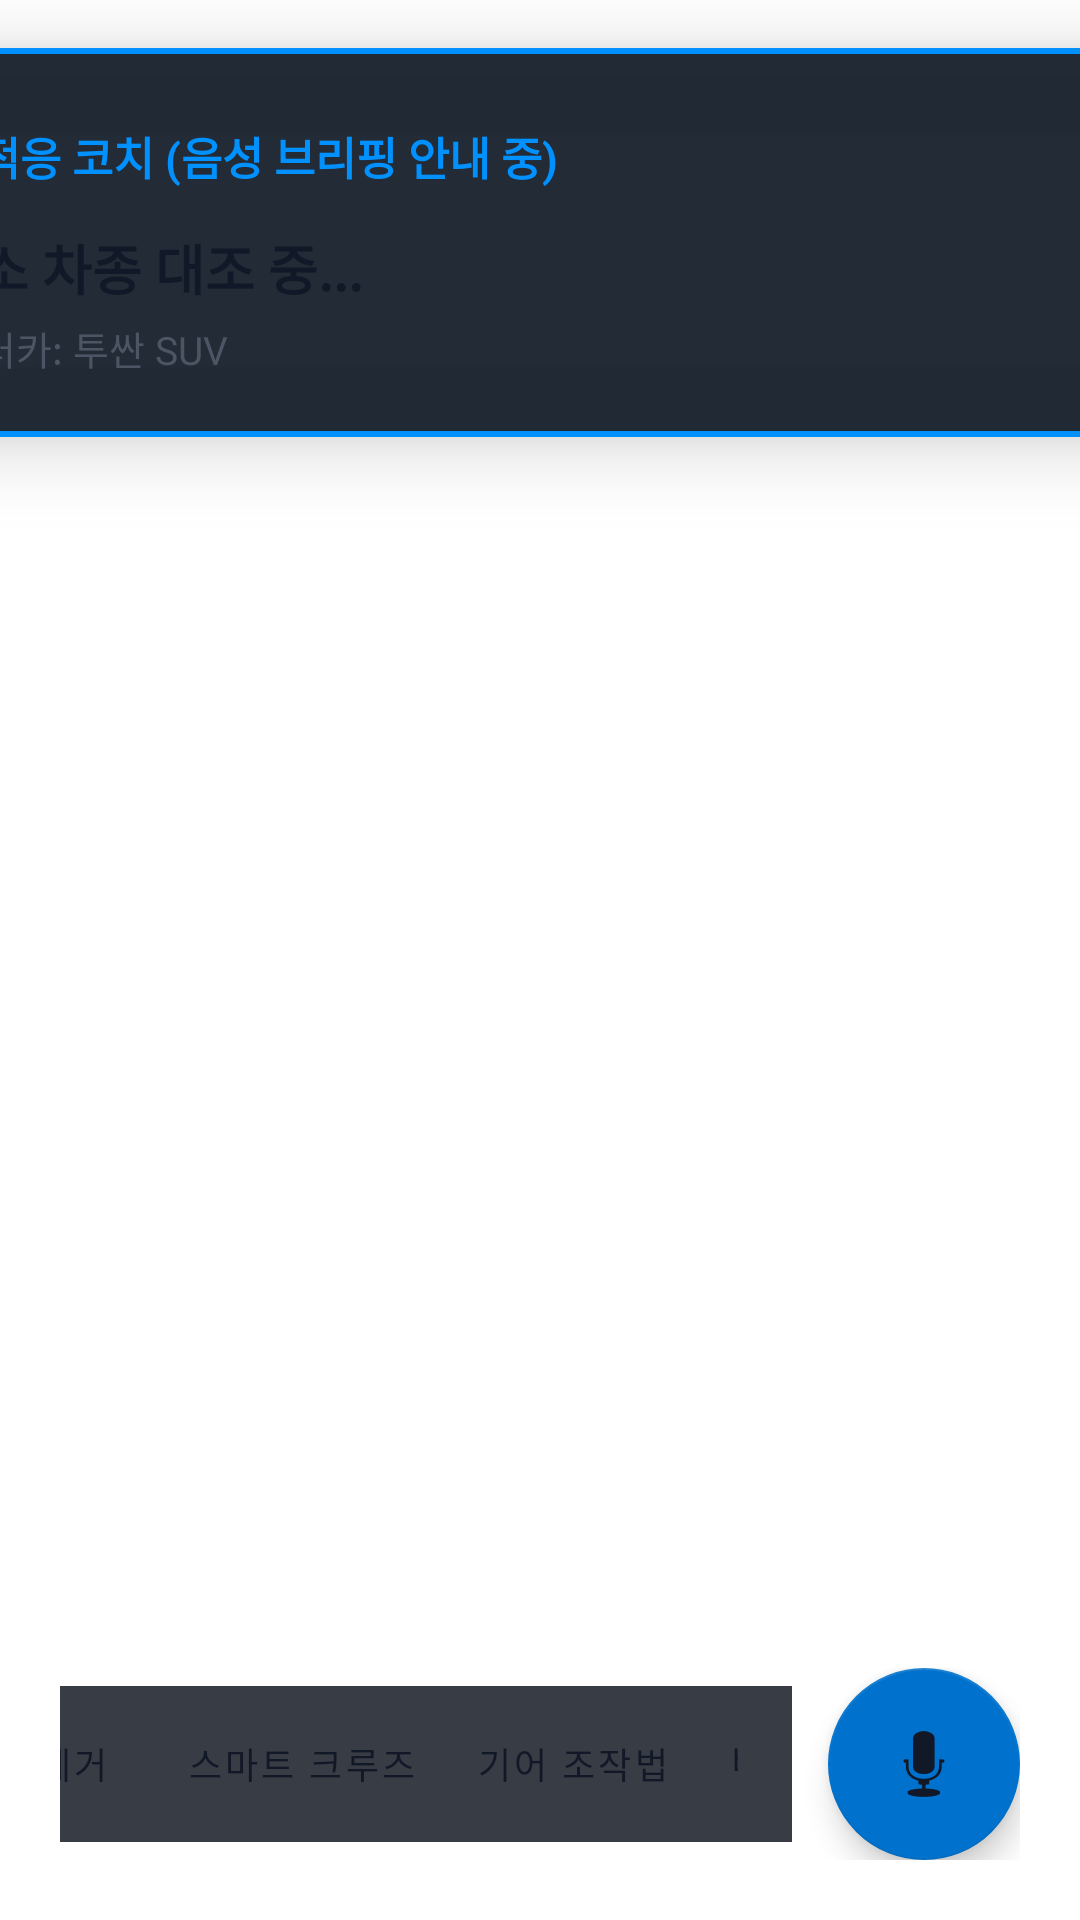

Screen size 1080×1920. Icon name, then its center in pixels as point (x, y):
음성 질문: point (924, 1764)
